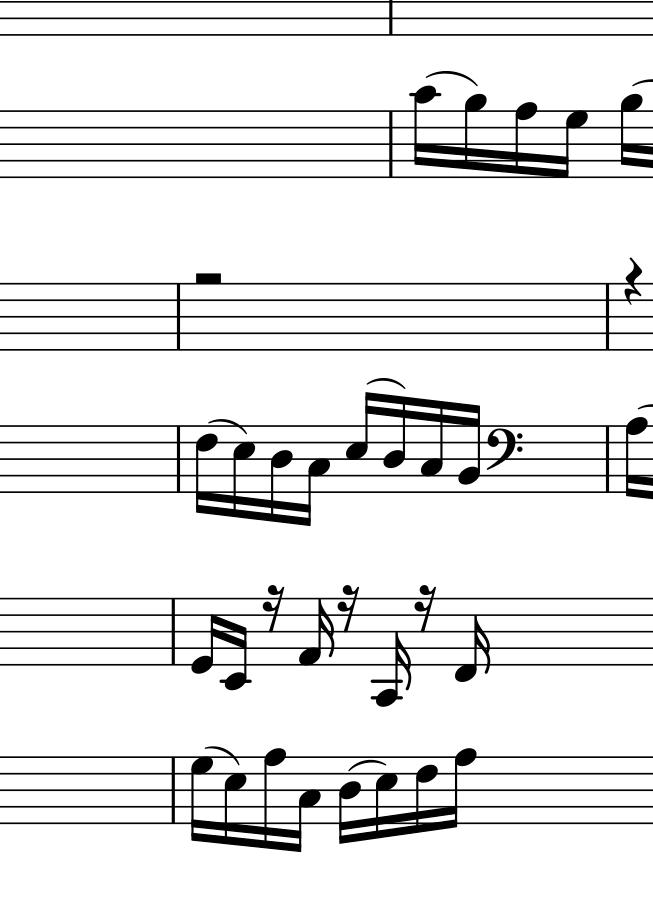16_-1: (453, 596, 490, 683)
16_-2: (220, 595, 251, 691)
16_-4: (374, 596, 411, 709)
16_0: (189, 594, 220, 677)
16_1: (297, 596, 334, 667)
16_10: (412, 85, 438, 180)
16_2: (455, 401, 480, 493)
16_3: (299, 424, 329, 527), (291, 757, 320, 854), (419, 398, 445, 491)
16_4: (379, 392, 407, 496), (268, 424, 293, 527), (336, 755, 362, 846)
16_5: (343, 389, 378, 495), (230, 425, 256, 522), (221, 756, 247, 848), (373, 754, 399, 841)
16_6: (194, 423, 218, 518), (414, 753, 439, 835)
16_7: (556, 109, 589, 179), (189, 751, 212, 847)
16_8: (262, 745, 286, 855), (444, 748, 475, 830), (624, 415, 649, 501), (513, 101, 538, 180)
16_9: (619, 89, 642, 183), (463, 93, 486, 179)
Fclef: (485, 423, 523, 491)
Rests16: (261, 584, 286, 634), (413, 584, 437, 633), (337, 585, 360, 633)
Rests2: (191, 271, 223, 289)
Rests4: (623, 257, 644, 307)
Single_barline: (171, 425, 186, 494), (383, 110, 398, 178), (600, 427, 616, 490), (171, 283, 186, 349), (166, 758, 180, 823)
Slur: (427, 69, 479, 87), (206, 745, 241, 766), (210, 417, 248, 435), (369, 376, 407, 391), (350, 757, 387, 772)
